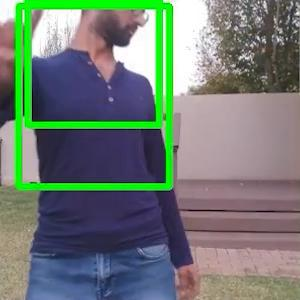takeoff-hand: (0, 0, 52, 98)
